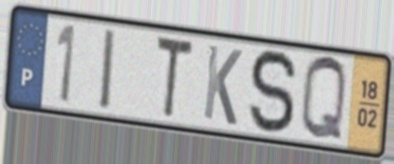1: (55, 23, 78, 108)
I: (98, 25, 118, 114)
K: (200, 41, 244, 129)
Q: (298, 53, 350, 145)
S: (248, 47, 300, 138)
T: (153, 31, 196, 123)
